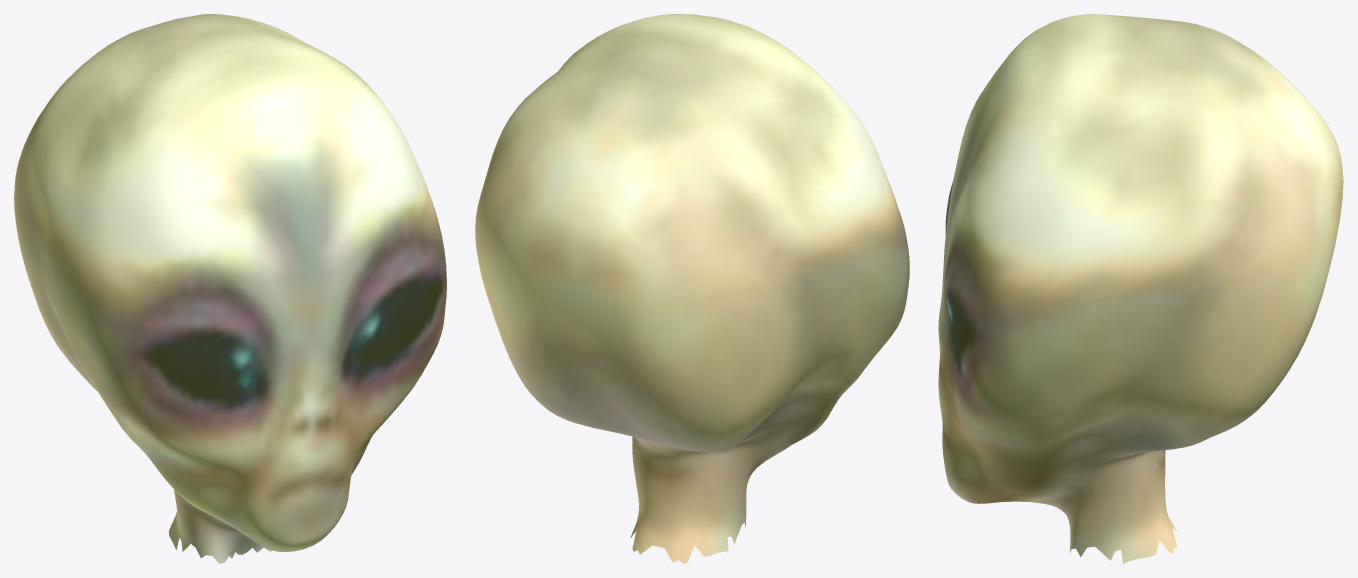
Rendered from Alien.glb.
3 views of the same model, side by side, from view 1: azimuth 30°, elevation 25°; view 2: azimuth 150°, elevation 25°; view 3: azimuth 270°, elevation 25° (orthographic).
Parts seen in each view (by area): view 1: AlienHead; view 2: AlienHead; view 3: AlienHead.
Boxes of the visible parts, box(x1,y1,x2,y2) form: AlienHead: box(14, 14, 446, 563); AlienHead: box(475, 14, 909, 563); AlienHead: box(938, 14, 1343, 563).
Bounding box in the file's own units: 0.7772 × 1.08 × 0.7773.
1 material, 1 textured.
